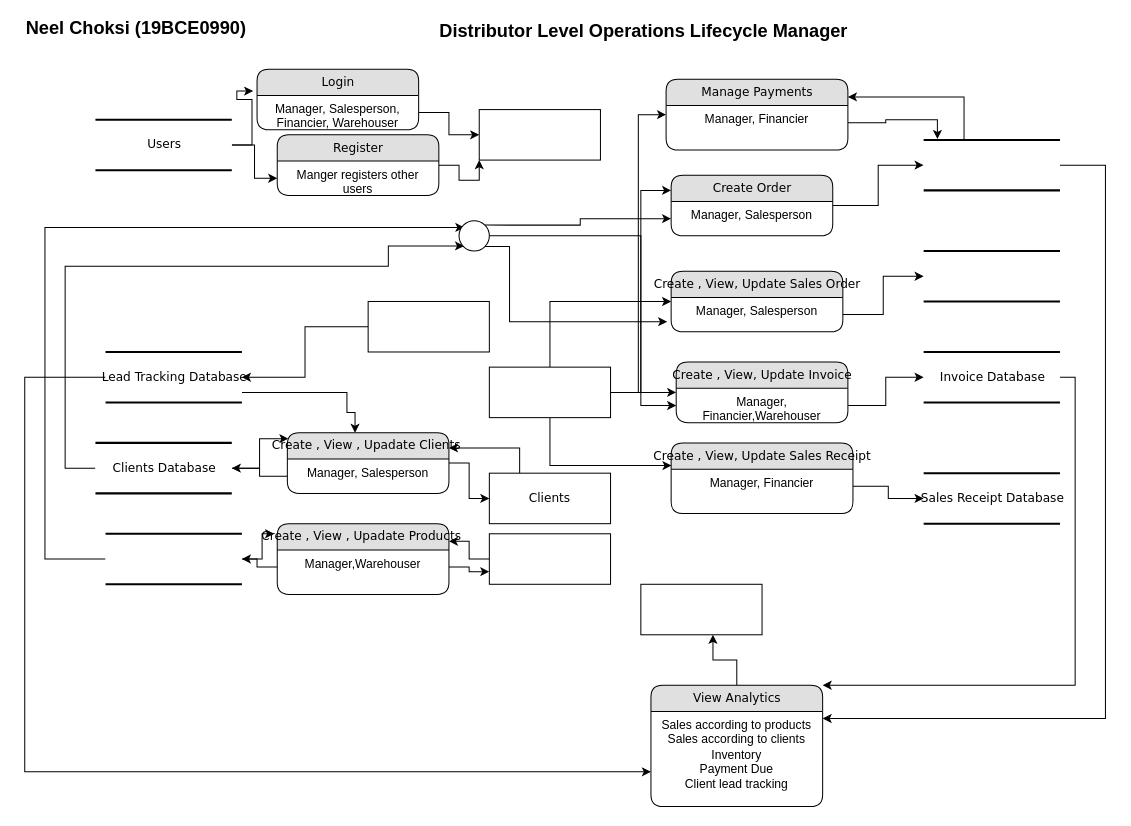
Some shapes in this 1131 by 826 pixel diagram are drawn without their labels. The centre of each missing label's shape, as x and y in pixels:
"Analytics" belongs at [701,609].
"Lead Tracking" belongs at [428,326].
"Login, Registration" belongs at [539,134].
"Orders" belongs at [549,392].
"Orders Database" belongs at [991,164].
"Products" belongs at [549,558].
"Products Database" belongs at [173,558].
"Sales OrdersDatabase" belongs at [991,275].
